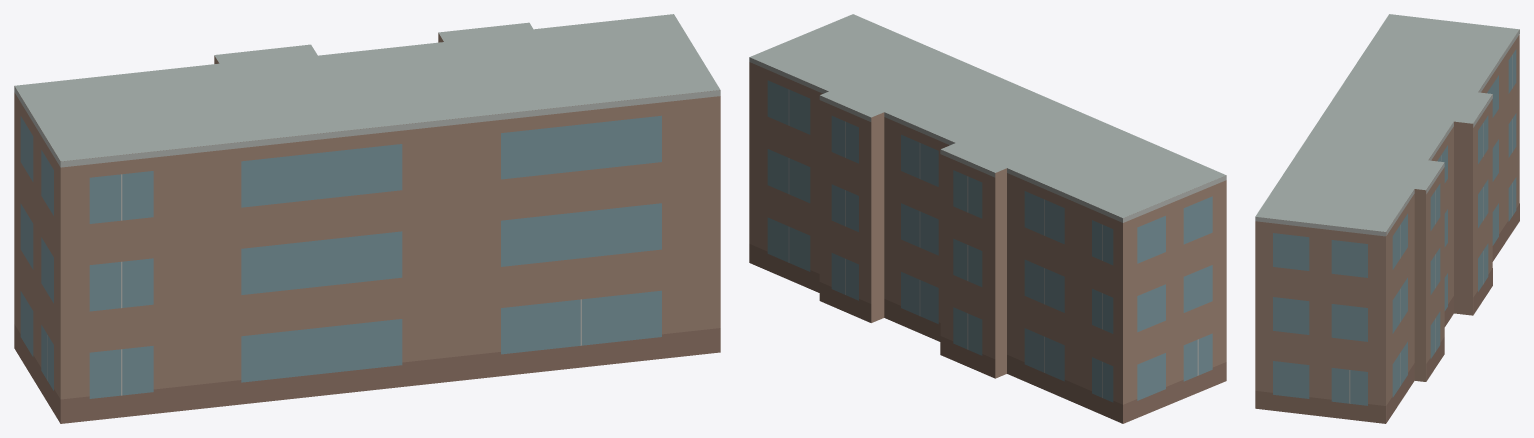
The model's file is survey-upis-32808515.glb.
3 views of the same model, side by side, from view 1: azimuth 30°, elevation 25°; view 2: azimuth 150°, elevation 25°; view 3: azimuth 270°, elevation 25° (orthographic). The views are drawn at different scales.
Parts seen in each view (by area): view 1: survey-upis-32808515.tmp; view 2: survey-upis-32808515.tmp; view 3: survey-upis-32808515.tmp.
Part boxes in pixels (x1,y1,x2,y2): survey-upis-32808515.tmp: [14, 14, 720, 423]; survey-upis-32808515.tmp: [749, 14, 1226, 423]; survey-upis-32808515.tmp: [1255, 14, 1519, 423].
Bounding box in the file's own units: 25.6 × 10.5 × 13.13.
